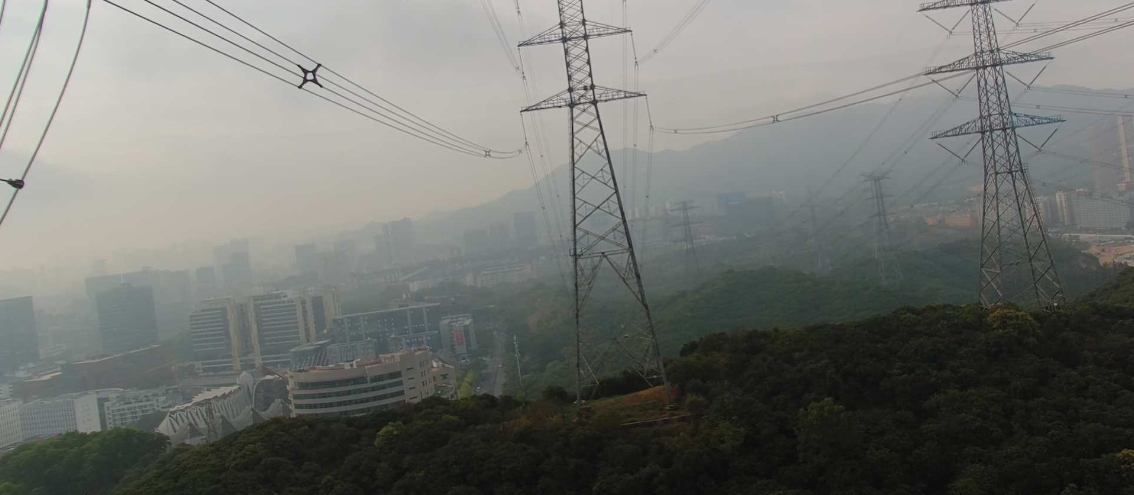山间云雾: (0, 0, 1133, 377)
